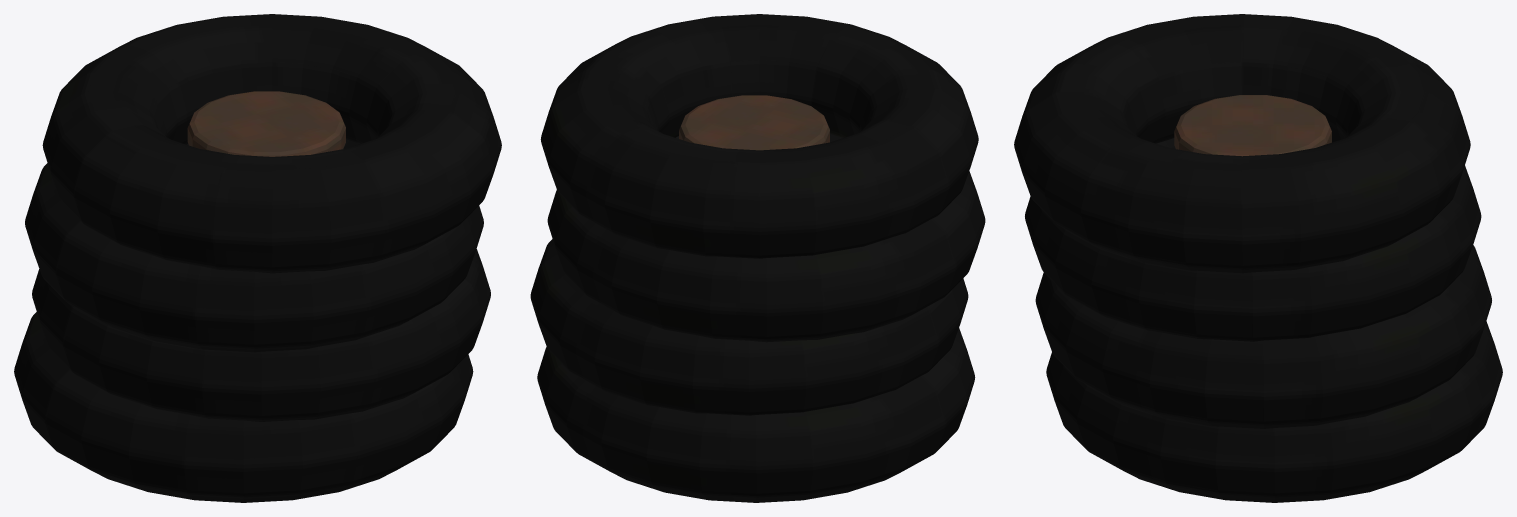
Rendered from tire-stack-v1.glb.
3 renders of one model, left to right at view 1: azimuth 30°, elevation 25°; view 2: azimuth 150°, elevation 25°; view 3: azimuth 270°, elevation 25°, orthographic. The views are drawn at different scales.
Parts seen in each view (by area): view 1: tire_3, tire_0, tire_2, tire_1, tire_rusted_hub; view 2: tire_3, tire_0, tire_2, tire_1, tire_rusted_hub; view 3: tire_3, tire_1, tire_0, tire_2, tire_rusted_hub.
Part boxes in pixels (bbox=[...]): tire_3: bbox=[42, 14, 501, 273]; tire_0: bbox=[14, 312, 473, 502]; tire_2: bbox=[25, 139, 483, 352]; tire_1: bbox=[32, 249, 490, 421]; tire_rusted_hub: bbox=[187, 91, 345, 156]; tire_3: bbox=[540, 14, 978, 258]; tire_0: bbox=[537, 328, 975, 502]; tire_2: bbox=[547, 133, 985, 342]; tire_1: bbox=[530, 239, 968, 415]; tire_rusted_hub: bbox=[679, 95, 829, 150]; tire_3: bbox=[1014, 14, 1470, 273]; tire_1: bbox=[1035, 245, 1491, 428]; tire_0: bbox=[1046, 321, 1502, 502]; tire_2: bbox=[1025, 138, 1481, 341]; tire_rusted_hub: bbox=[1174, 95, 1331, 156].
Size of the model in its own units: 1.32 by 1.04 by 1.37.
Materials: 2 (2 with a texture image).
